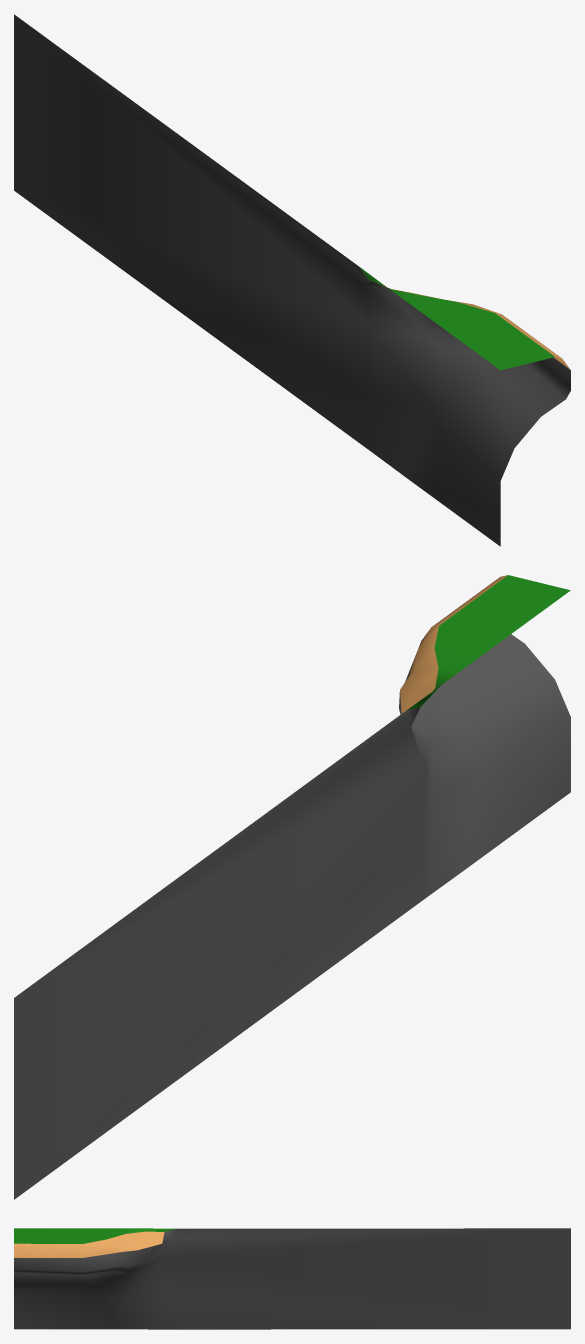
Rendered from Side-1.fbx.
3 renders of one model, top to bottom at view 1: azimuth 30°, elevation 25°; view 2: azimuth 150°, elevation 25°; view 3: azimuth 270°, elevation 25°, orthographic. The views are drawn at different scales.
Parts seen in each view (by area): view 1: Side-1, Side-1.002; view 2: Side-1, Side-1.002, Side-1.001; view 3: Side-1, Side-1.001, Side-1.002.
Part boxes in pixels (<box>): Side-1: <box>14,14,570,546</box>; Side-1.002: <box>358,266,554,370</box>; Side-1: <box>14,634,570,1199</box>; Side-1.002: <box>408,575,570,709</box>; Side-1.001: <box>400,575,507,713</box>; Side-1: <box>14,1228,570,1329</box>; Side-1.001: <box>14,1231,164,1257</box>; Side-1.002: <box>14,1228,175,1243</box>.
Size of the model in its own units: 1.83 by 4 by 20.
